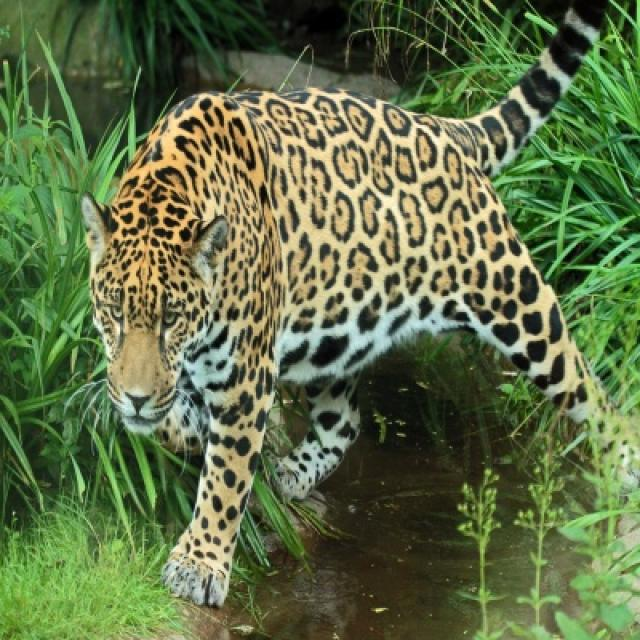Jaguar: (82, 0, 606, 638)
